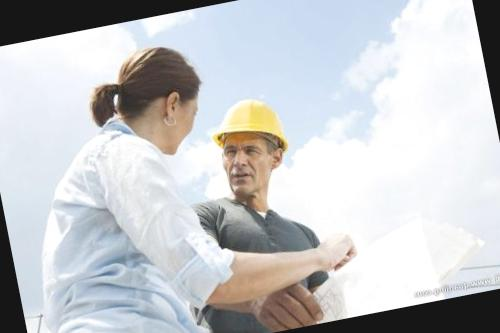no_helmet: (93, 35, 216, 169)
person: (0, 35, 251, 333), (160, 82, 367, 333)
